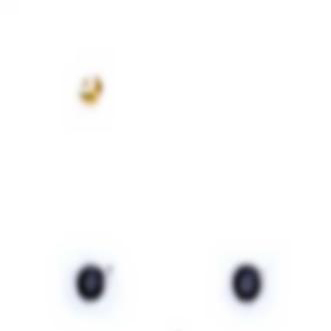cancer: (58, 247, 127, 318), (216, 247, 284, 318)
normal: (64, 60, 123, 122)
